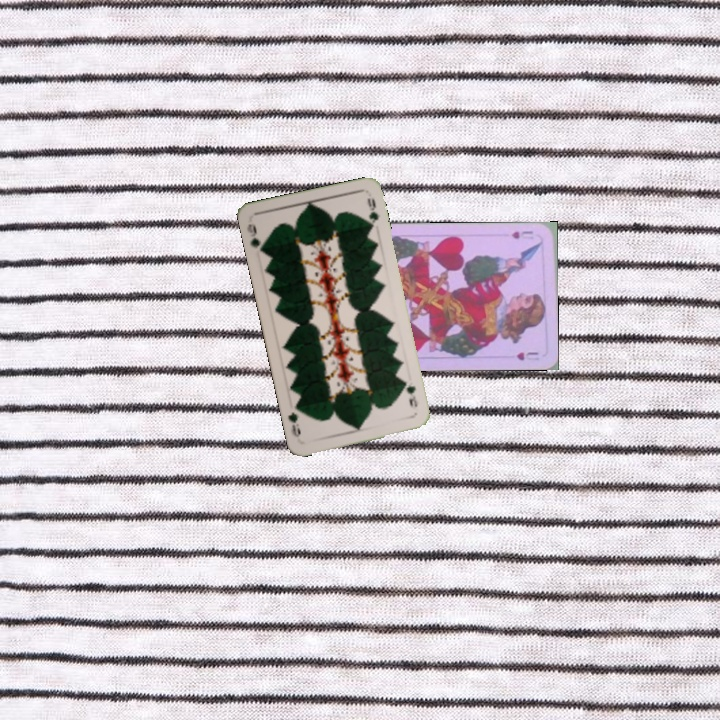G9: (243, 219, 268, 256), (400, 377, 420, 410)
HU: (508, 227, 536, 242)
